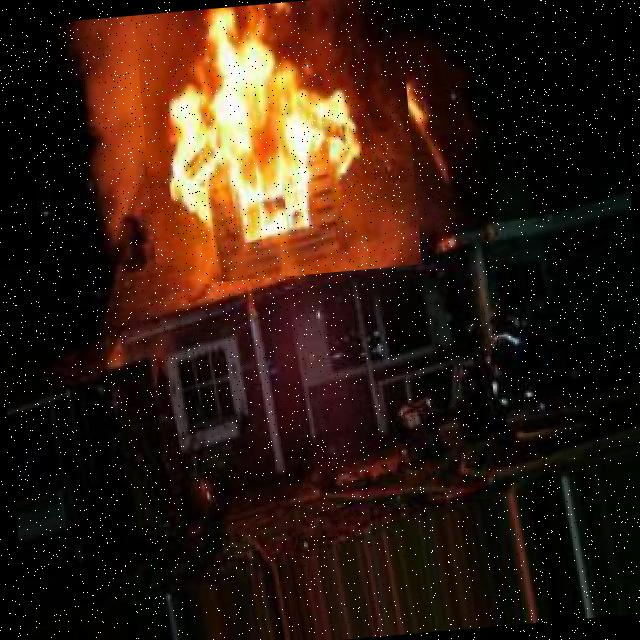fire: (133, 0, 421, 287)
